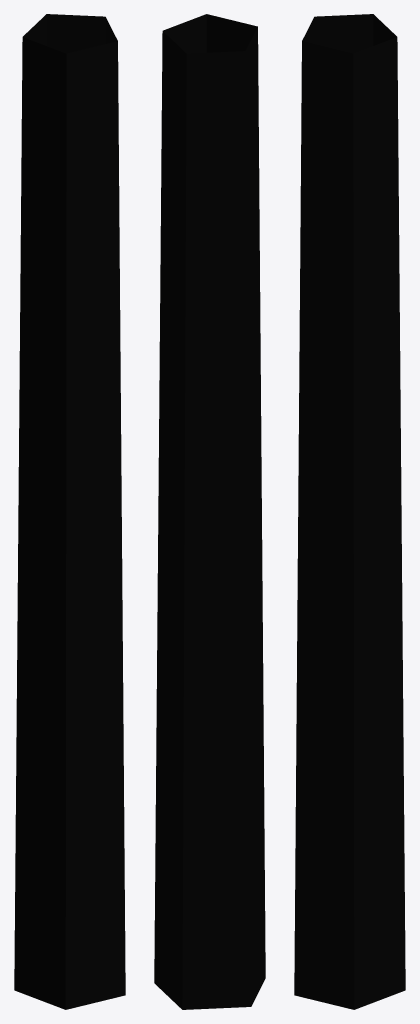
The model's file is SM_fence_post.fbx.
3 views of the same model, side by side, from view 1: azimuth 30°, elevation 25°; view 2: azimuth 150°, elevation 25°; view 3: azimuth 330°, elevation 25° (orthographic).
Parts seen in each view (by area): view 1: fence_post; view 2: fence_post; view 3: fence_post.
Boxes of the visible parts, bbox=[...] form: fence_post: bbox=[14, 14, 125, 1009]; fence_post: bbox=[154, 14, 265, 1009]; fence_post: bbox=[294, 14, 405, 1009].
Size of the model in its own units: 0.1331 by 1.25 by 0.1266.
